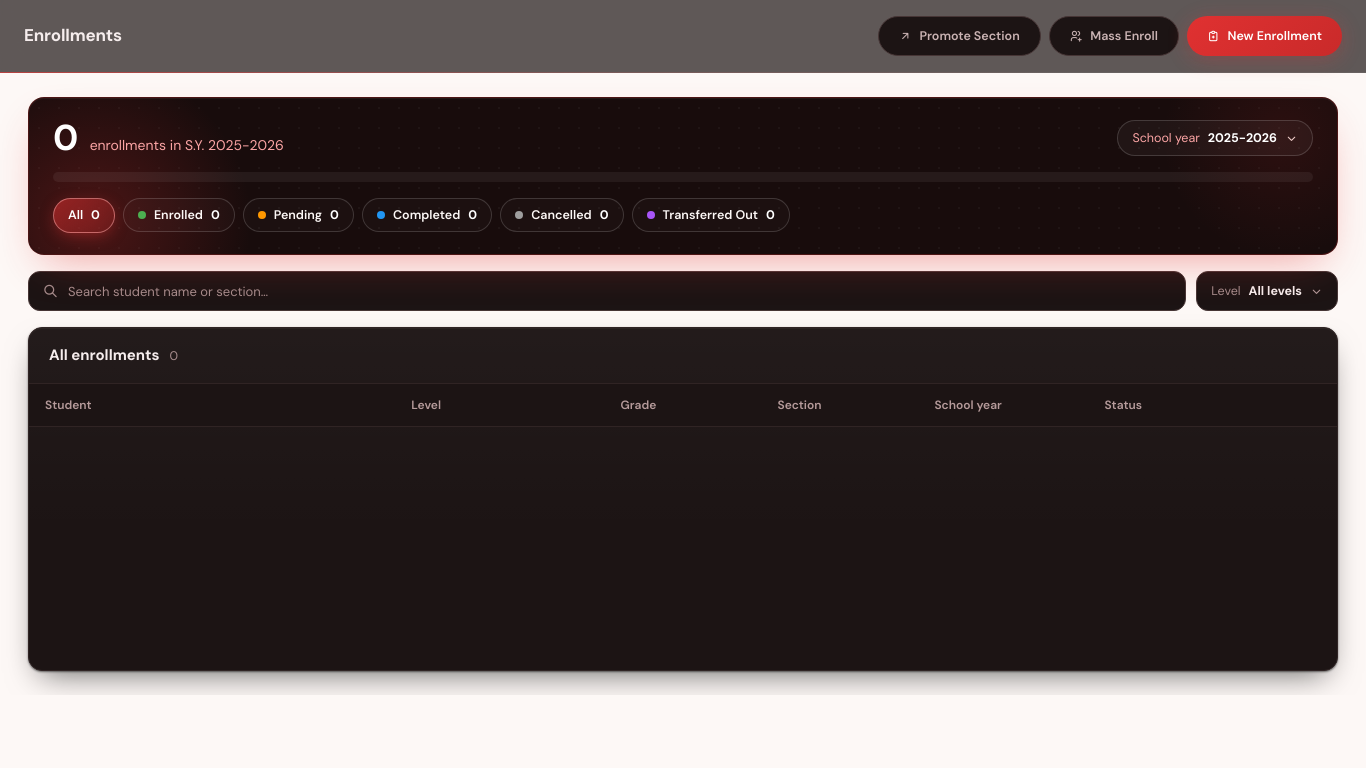
Test case: Promote Section in dark › walks preview and result
Click the button "Promote Section" at point(959, 36), box [878, 16, 1041, 56]
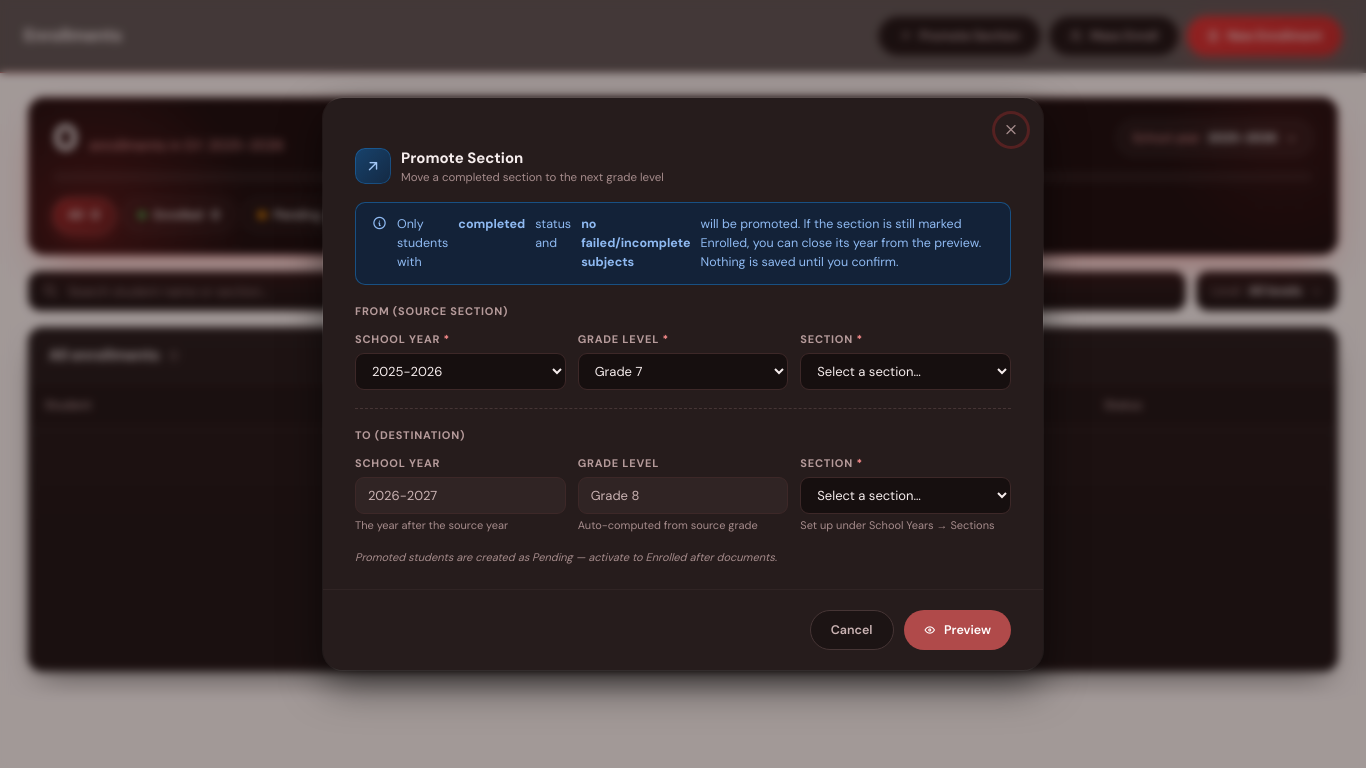
Check: the text "Nothing is saved until you confirm" is shown, box [700, 216, 981, 270]
Select "2025-2026" in the 1st dropdown at point(460, 371), box [355, 352, 566, 390]
Select "Grade 4" in the 2nd dropdown at point(683, 371), box [578, 352, 788, 390]
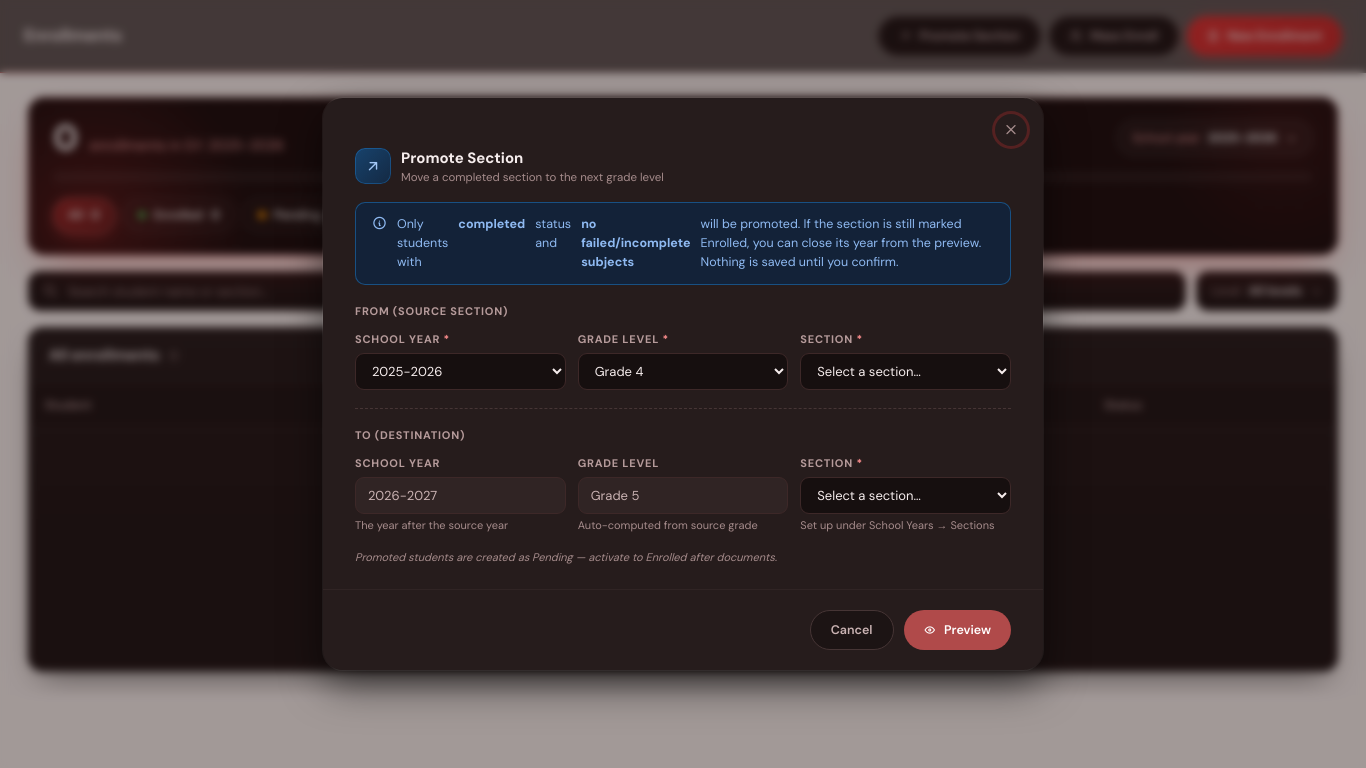
Select "Rizal" in the dropdown named "Source section" at point(906, 371), box [800, 352, 1011, 390]
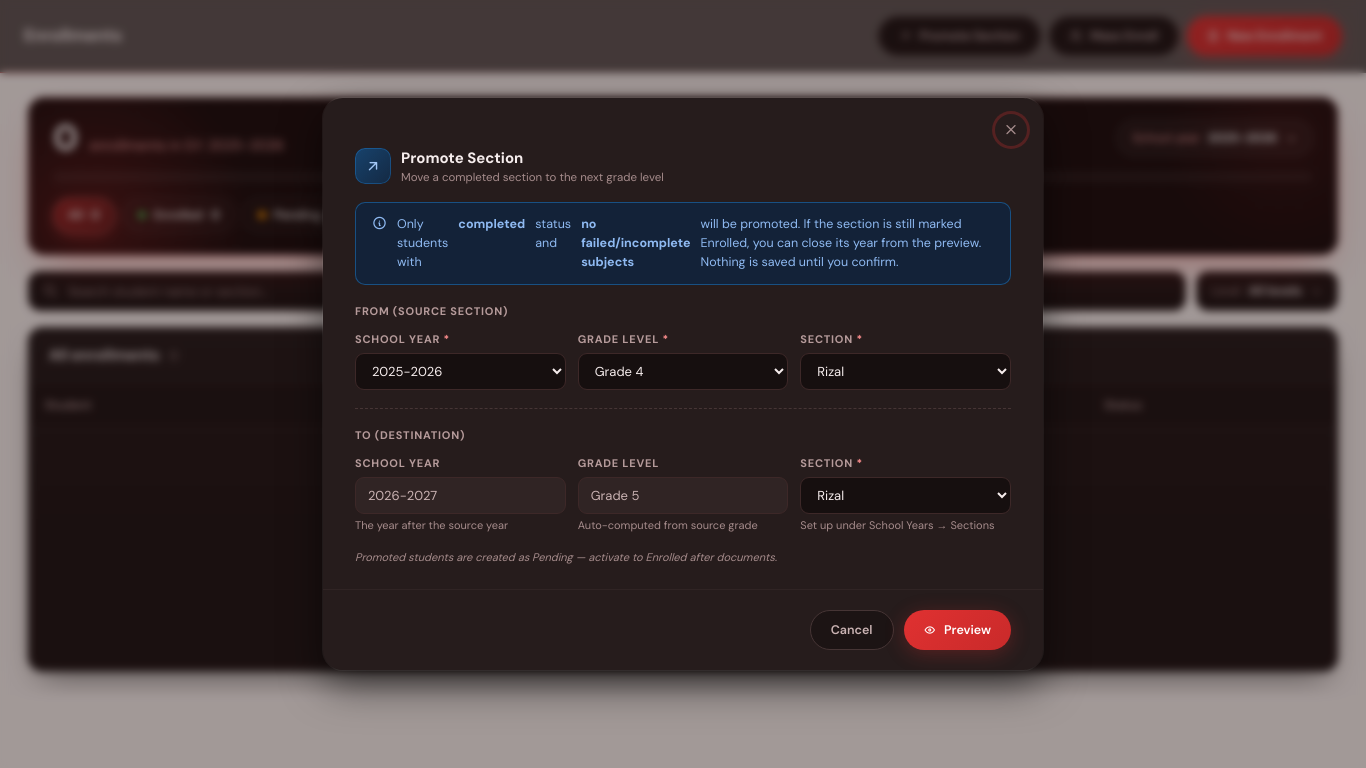
Check: the field named "Destination school year" holds "2026-2027", box [355, 476, 566, 514]
Check: the dropdown named "Destination section" shows "Rizal", box [800, 476, 1011, 514]
Click the button "Preview" at point(957, 630), box [904, 610, 1011, 650]
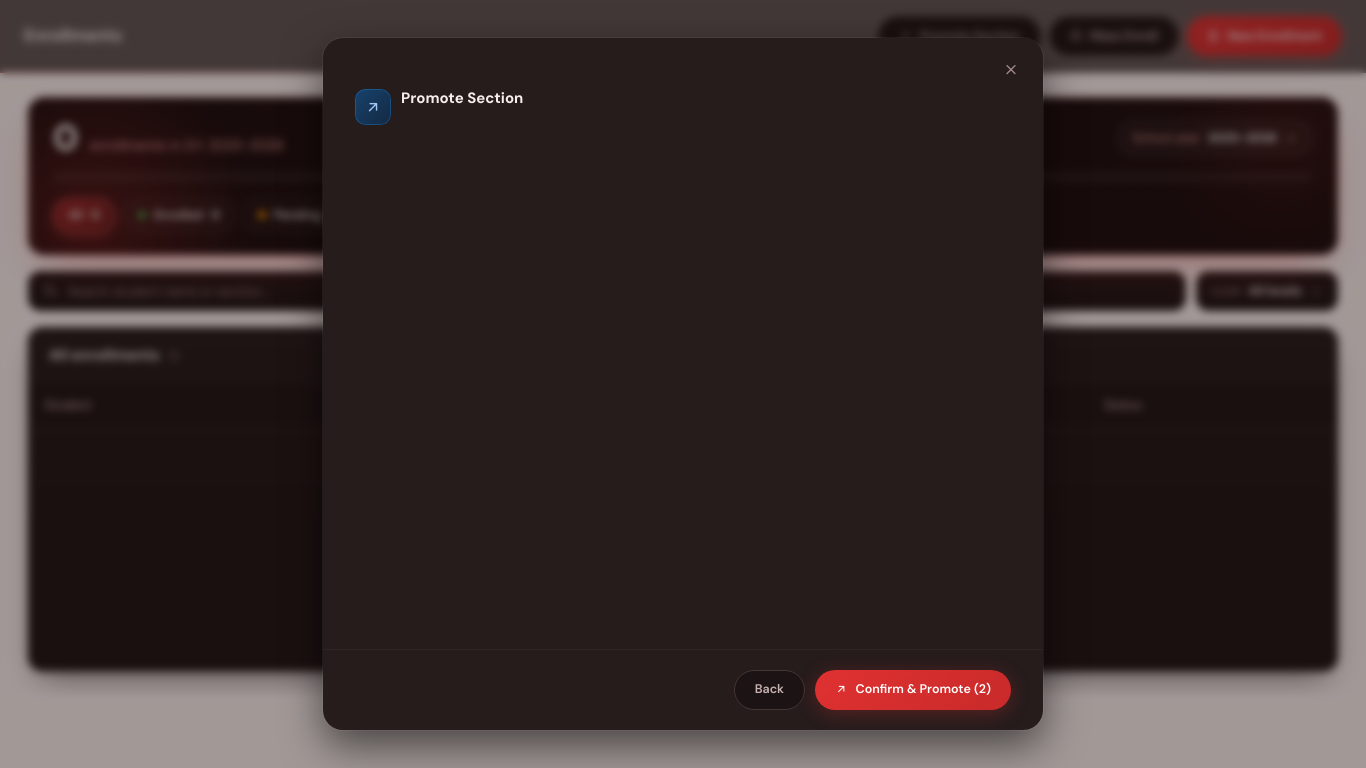
Click the button "Confirm & Promote (2)" at point(913, 690), box [815, 670, 1011, 710]
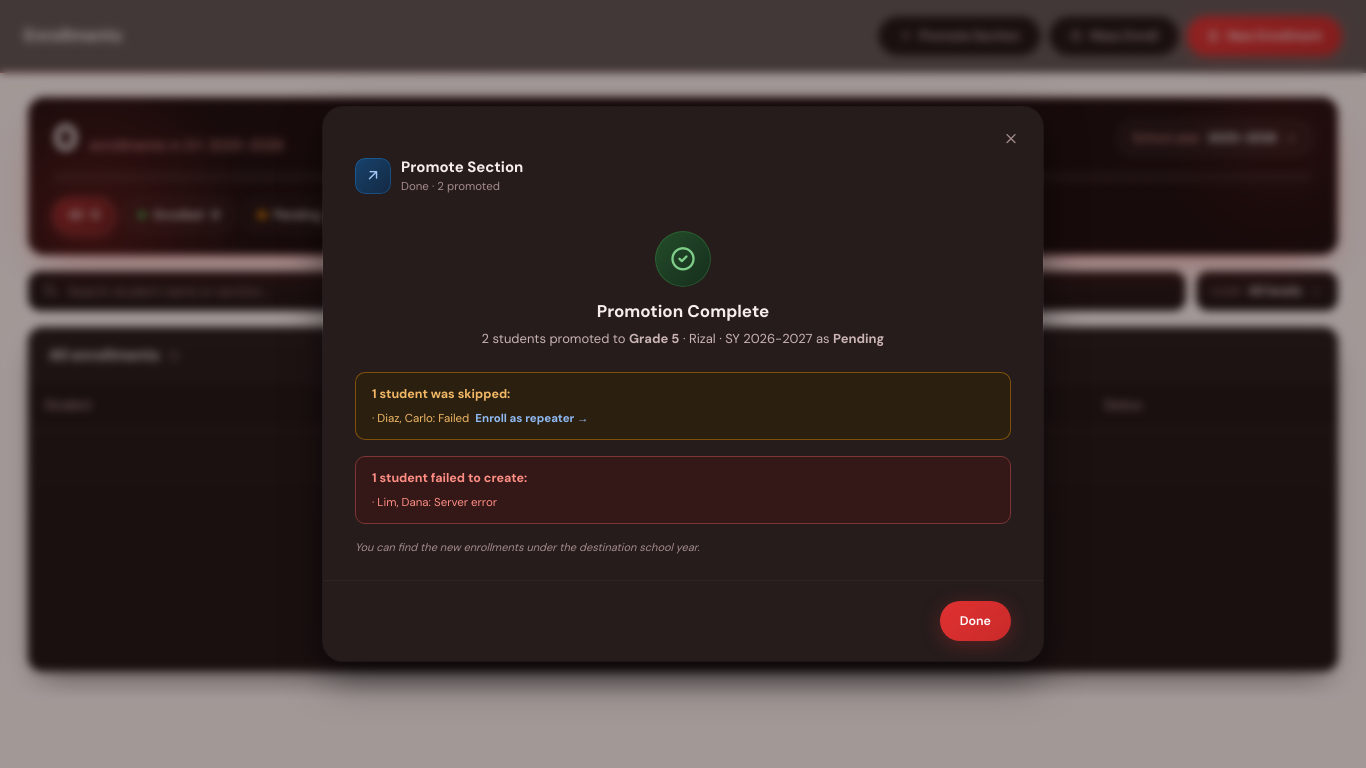
Check: the text "Promotion Complete" is shown, box [597, 300, 769, 322]
Check: the text "1 student was skipped:" is shown, box [372, 386, 510, 402]
Check: the text "1 student failed to create:" is shown, box [372, 470, 527, 486]
